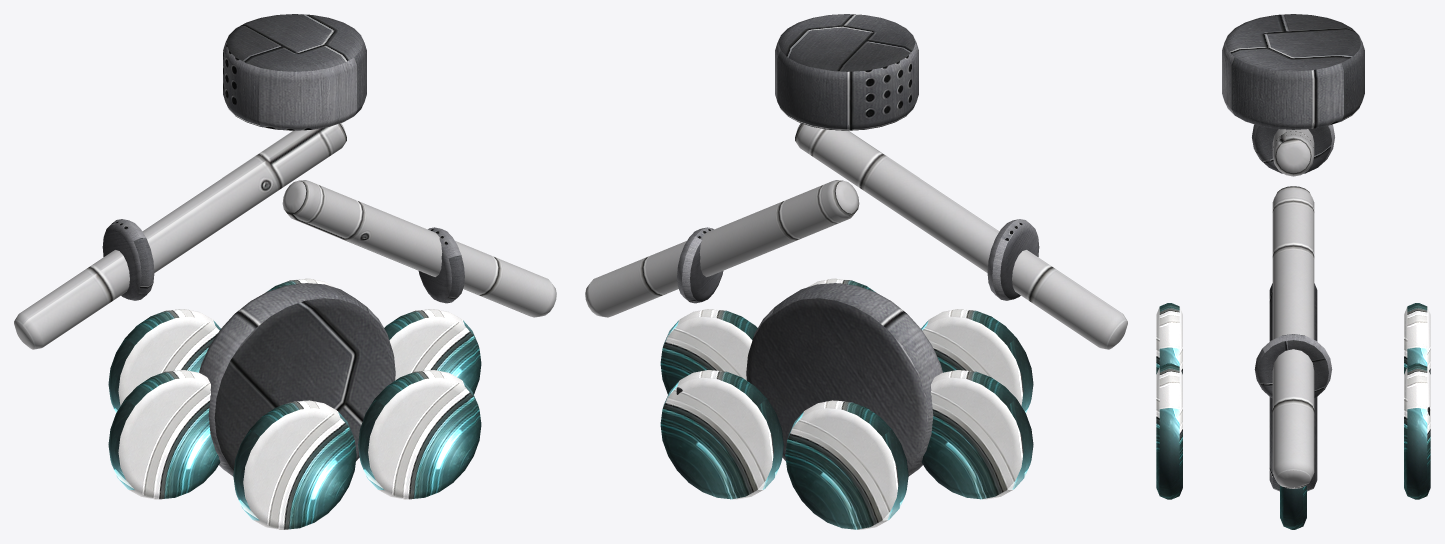
File: hp_l4_cineclinic_surgical_light.glb
3 renders of one model, left to right at view 1: azimuth 30°, elevation 25°; view 2: azimuth 150°, elevation 25°; view 3: azimuth 270°, elevation 25°, orthographic.
Parts seen in each view (by area): view 1: lamp_hub, ceiling_mount, arm_a, petal_lens_5, petal_lens_4, petal_lens_3, arm_b, petal_lens_2, petal_lens_0, joint_a_cap, joint_b_cap; view 2: lamp_hub, ceiling_mount, arm_a, petal_lens_2, petal_lens_1, petal_lens_3, arm_b, petal_lens_4, petal_lens_0, joint_a_cap, joint_b_cap; view 3: ceiling_mount, arm_b, petal_lens_5, petal_lens_1, joint_b_cap, arm_a, petal_lens_2, petal_lens_4, joint_a_cap, lamp_hub, petal_lens_0.
Boxes of the visible parts, left/top/right/bottom form: lamp_hub: left=199, top=283, right=395, bottom=476; ceiling_mount: left=223, top=14, right=366, bottom=130; arm_a: left=14, top=123, right=346, bottom=349; petal_lens_5: left=358, top=370, right=481, bottom=499; petal_lens_4: left=233, top=400, right=356, bottom=529; petal_lens_3: left=108, top=370, right=220, bottom=499; arm_b: left=282, top=180, right=556, bottom=317; petal_lens_2: left=108, top=309, right=220, bottom=412; petal_lens_0: left=384, top=309, right=481, bottom=394; joint_a_cap: left=102, top=219, right=154, bottom=300; joint_b_cap: left=418, top=227, right=464, bottom=303; lamp_hub: left=746, top=283, right=942, bottom=476; ceiling_mount: left=775, top=14, right=918, bottom=130; arm_a: left=795, top=123, right=1127, bottom=349; petal_lens_2: left=785, top=400, right=908, bottom=529; petal_lens_1: left=660, top=370, right=783, bottom=499; petal_lens_3: left=921, top=370, right=1033, bottom=499; arm_b: left=585, top=180, right=859, bottom=317; petal_lens_4: left=921, top=309, right=1033, bottom=412; petal_lens_0: left=660, top=309, right=757, bottom=394; joint_a_cap: left=987, top=219, right=1039, bottom=300; joint_b_cap: left=677, top=227, right=723, bottom=303; ceiling_mount: left=1222, top=14, right=1364, bottom=129; arm_b: left=1272, top=186, right=1314, bottom=488; petal_lens_5: left=1156, top=363, right=1182, bottom=499; petal_lens_1: left=1404, top=363, right=1430, bottom=499; joint_b_cap: left=1254, top=334, right=1332, bottom=398; arm_a: left=1272, top=129, right=1314, bottom=176; petal_lens_2: left=1404, top=303, right=1430, bottom=374; petal_lens_4: left=1156, top=303, right=1182, bottom=374; joint_a_cap: left=1252, top=124, right=1334, bottom=173; lamp_hub: left=1269, top=283, right=1317, bottom=491; petal_lens_0: left=1280, top=485, right=1306, bottom=529.
Size of the model in its own units: 1.03 by 0.82 by 0.4607.
Materials: 5 (5 with a texture image).
